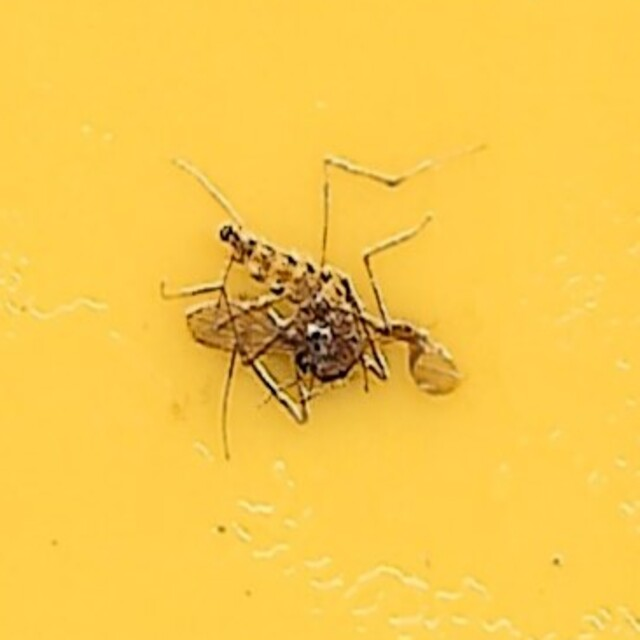Nematocera: (175, 204, 465, 436)
